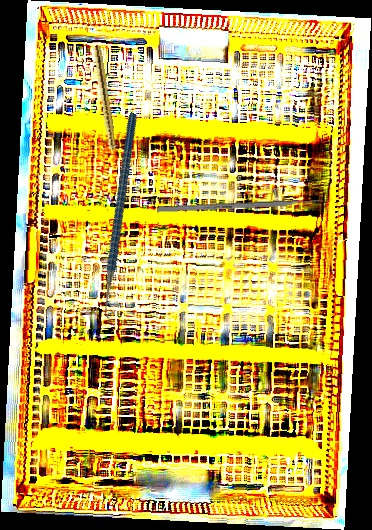Chopper: (40, 111, 206, 329)
Handpiece: (90, 45, 120, 163)
Pusher: (156, 197, 333, 213)
